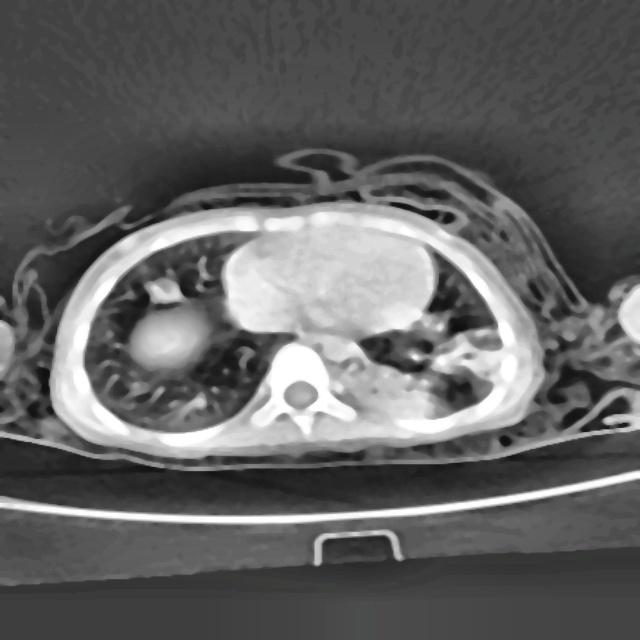covid: (1, 148, 636, 468)
